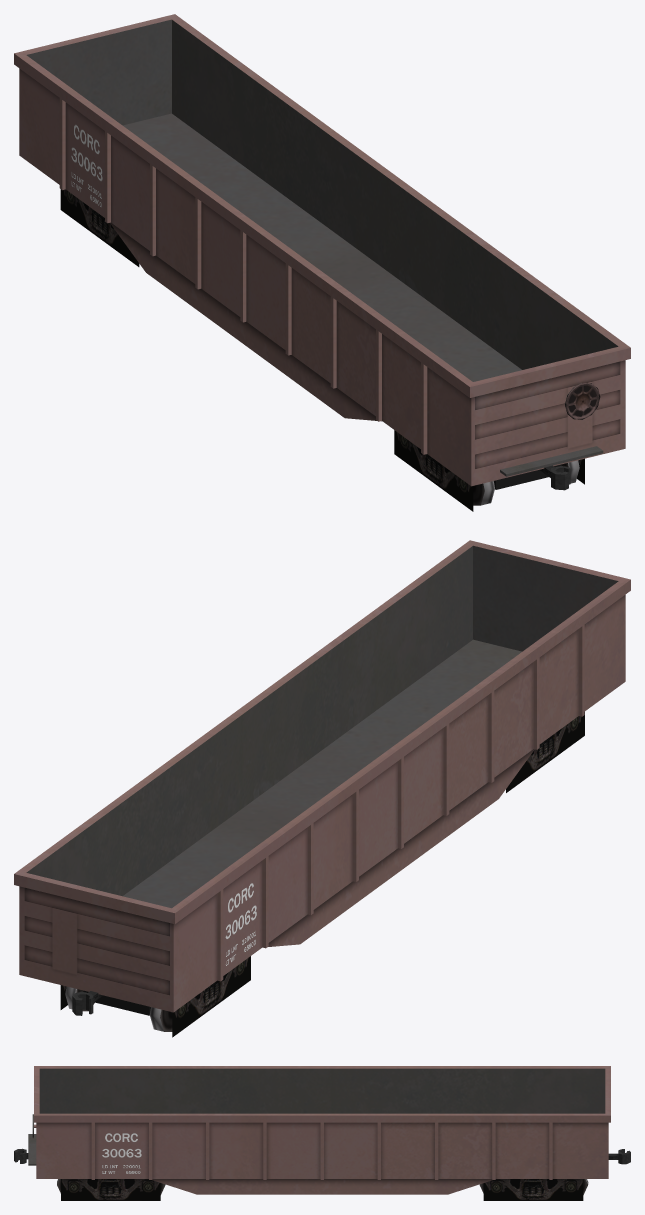
File: gondola.fbx
3 renders of one model, top to bottom at view 1: azimuth 30°, elevation 25°; view 2: azimuth 150°, elevation 25°; view 3: azimuth 270°, elevation 25°, orthographic. The views are drawn at different scales.
Visible parts, largest first — view 1: Gondola.001, Gondola.002, Gondola.003; view 2: Gondola.001, Gondola.003, Gondola.002; view 3: Gondola.001, Gondola.003, Gondola.002, Gondola.004.
Part boxes in pixels (x1,y1,x2,y2): Gondola.001: (14, 14, 630, 486); Gondola.002: (394, 430, 584, 511); Gondola.003: (60, 189, 139, 266); Gondola.001: (14, 540, 630, 1012); Gondola.003: (60, 956, 250, 1037); Gondola.002: (506, 712, 584, 792); Gondola.001: (28, 1066, 610, 1194); Gondola.003: (479, 1179, 588, 1200); Gondola.002: (57, 1179, 165, 1200); Gondola.004: (608, 1149, 630, 1164).
Size of the model in its own units: 293 by 260 by 1534.
